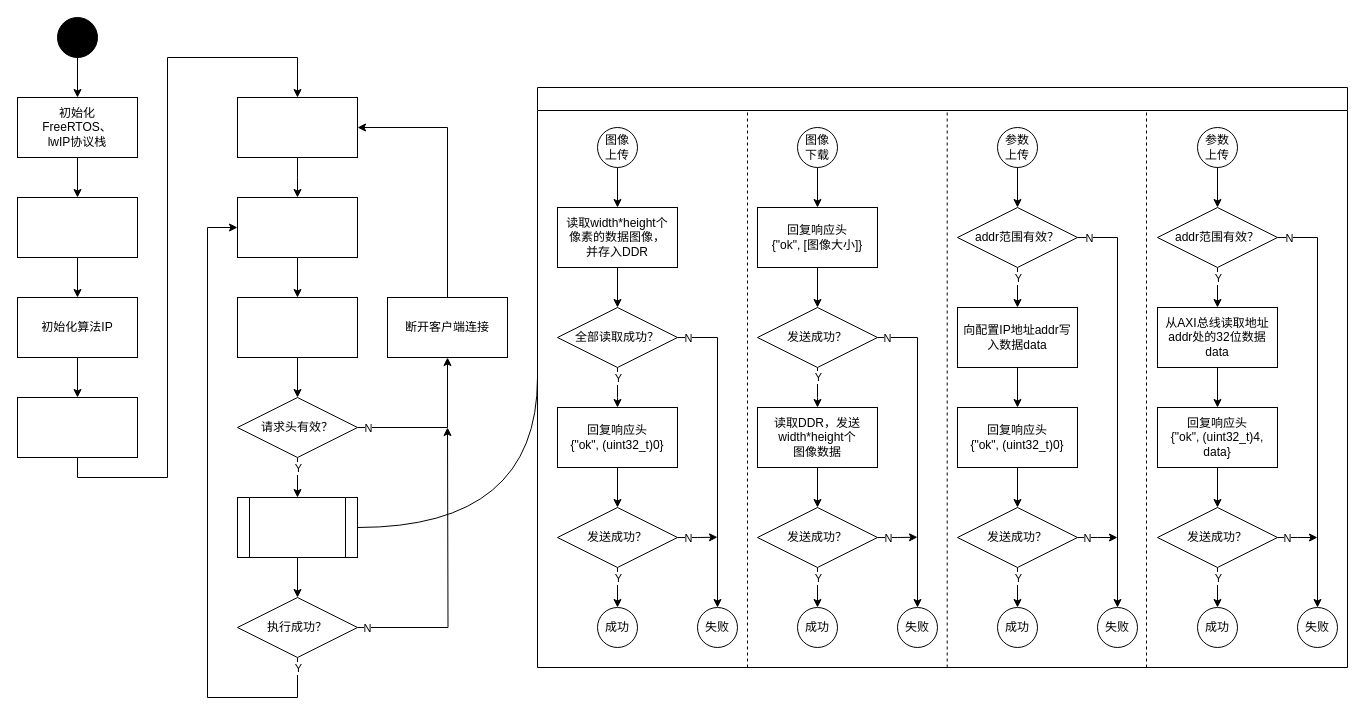
Image size: 1365x723. Some labels were removed from this diagram. The box of each missing label's shape, as (x1, y1, x2, y2) in pixels:
MAC, 网络IP配置: (16, 196, 138, 258)
启动TCP服务器: (16, 396, 138, 458)
响应请求 执行对应操作 并回复: (236, 496, 358, 558)
接收请求数据头: (236, 196, 358, 258)
等待客户端连接: (236, 96, 358, 158)
解析请求: (236, 296, 358, 358)
请求响应子流程: (536, 86, 1348, 668)
